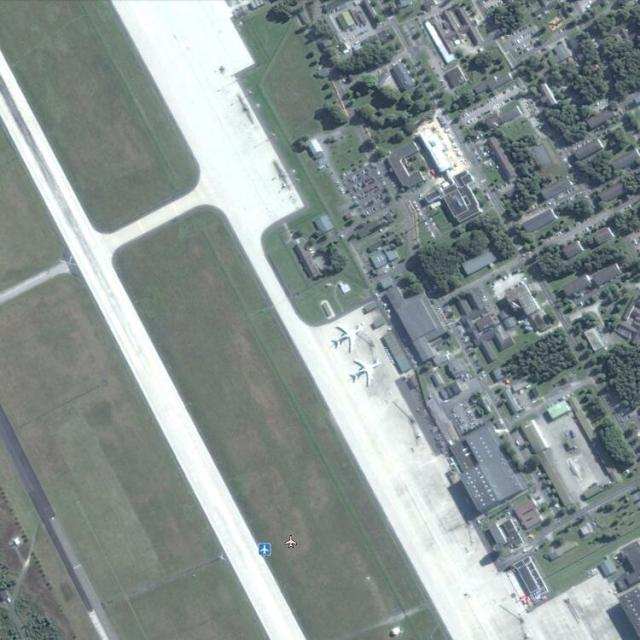fighter jet: (339, 357, 383, 387), (329, 322, 366, 352)
